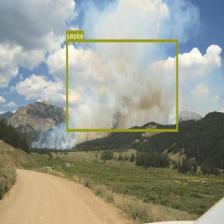smoke: (66, 39, 178, 131)
